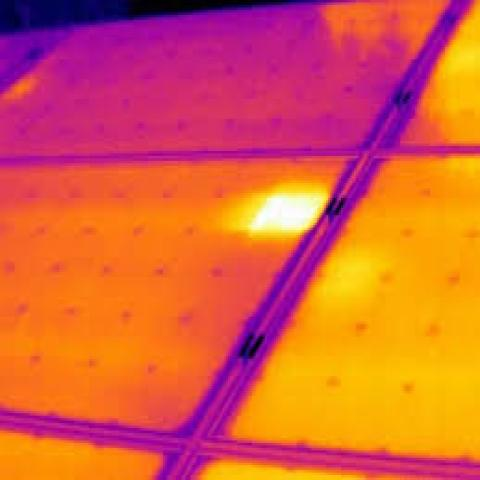fault: (247, 178, 339, 245)
